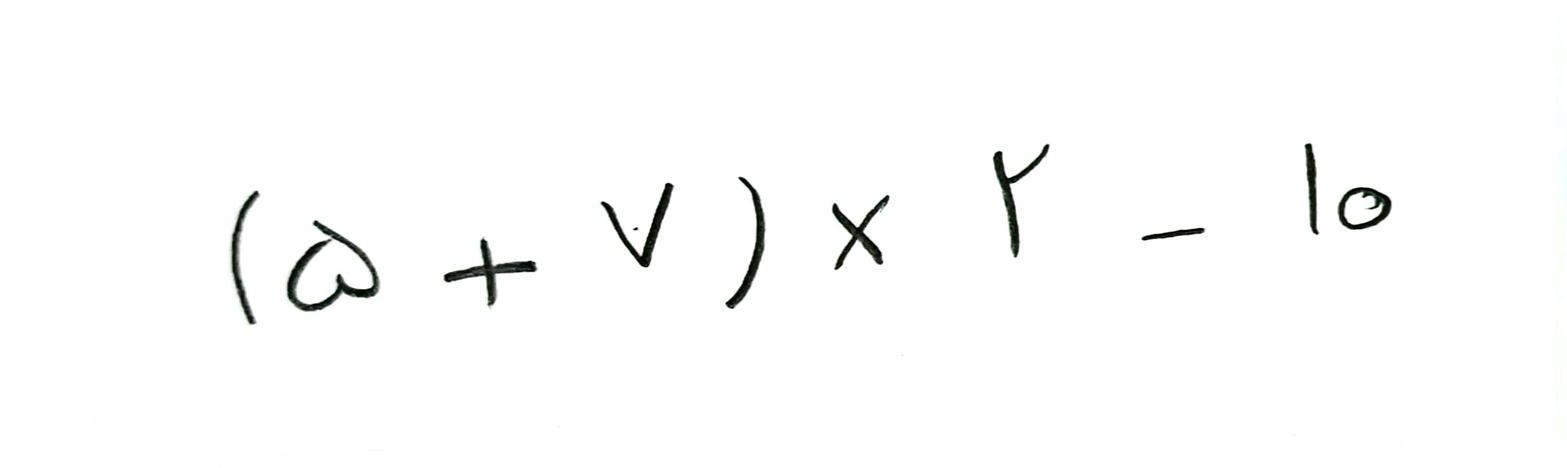character: (285, 217, 380, 313), (444, 237, 539, 308), (993, 142, 1050, 259), (601, 181, 673, 268), (725, 176, 767, 309), (229, 189, 263, 326), (830, 194, 891, 269), (1336, 186, 1393, 231), (1304, 142, 1321, 236), (1138, 226, 1205, 242)
